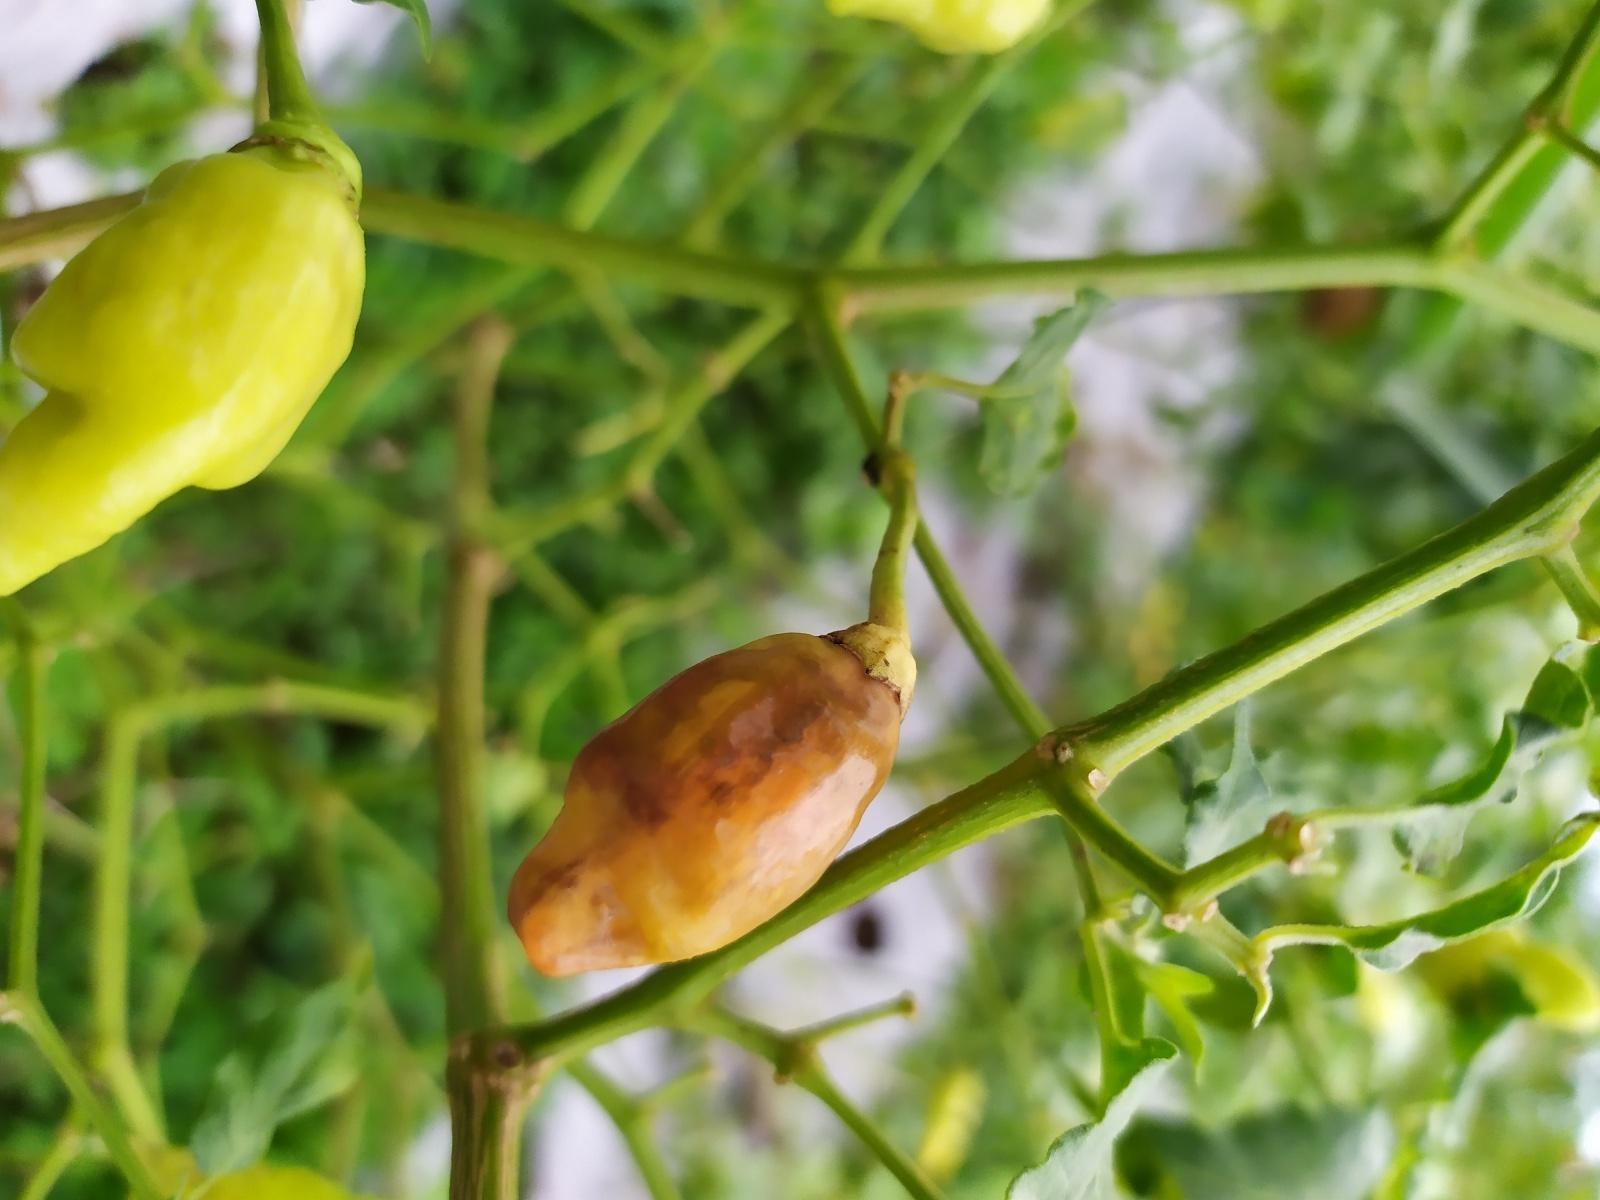cabai_normal: (0, 150, 365, 595)
lalat_buah: (505, 630, 903, 978)
